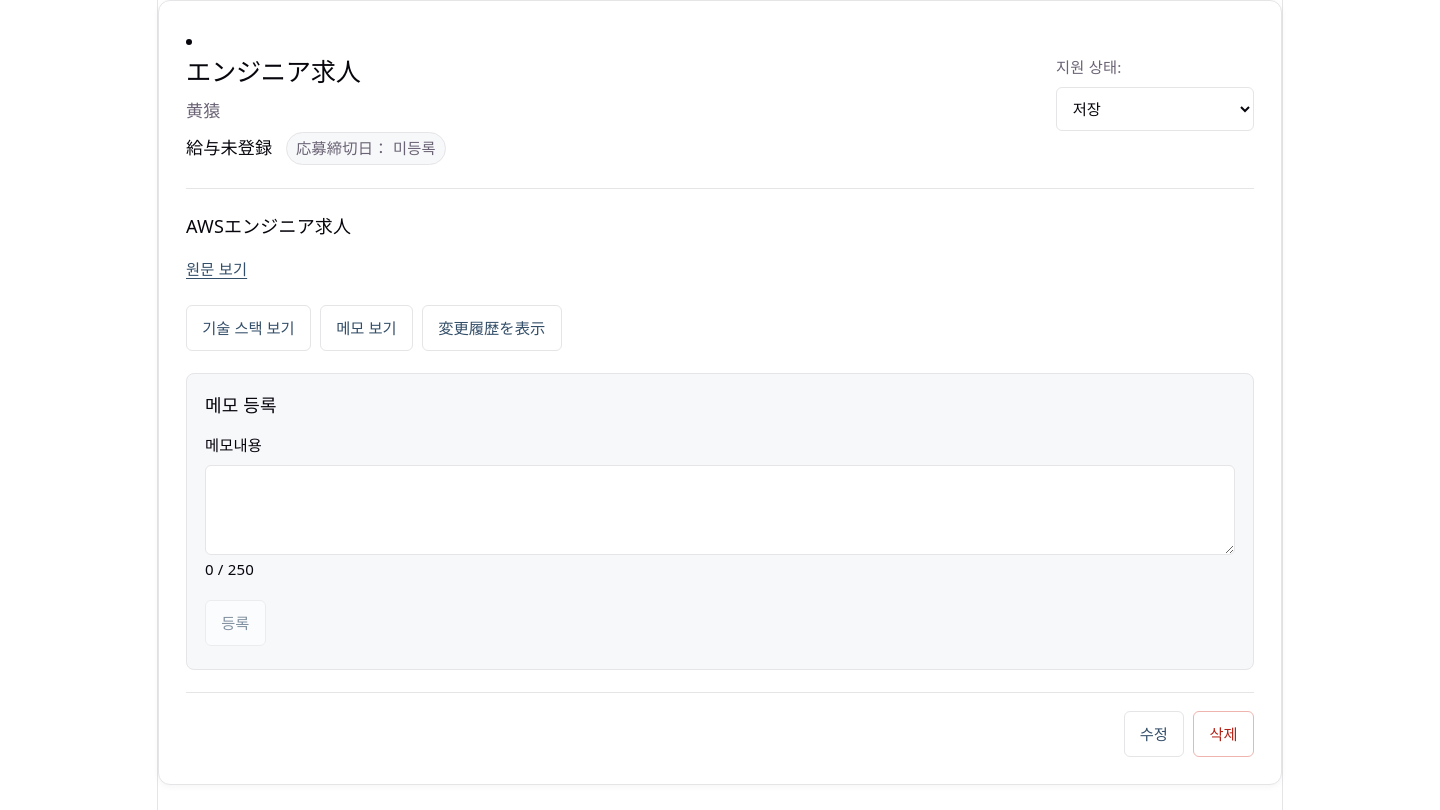
memos › 메모가 없을 때 메시지로 메모가 없음을 확인할 수 있다.
Click the button "메모 보기" at x=366, y=328, box [320,305,413,351]
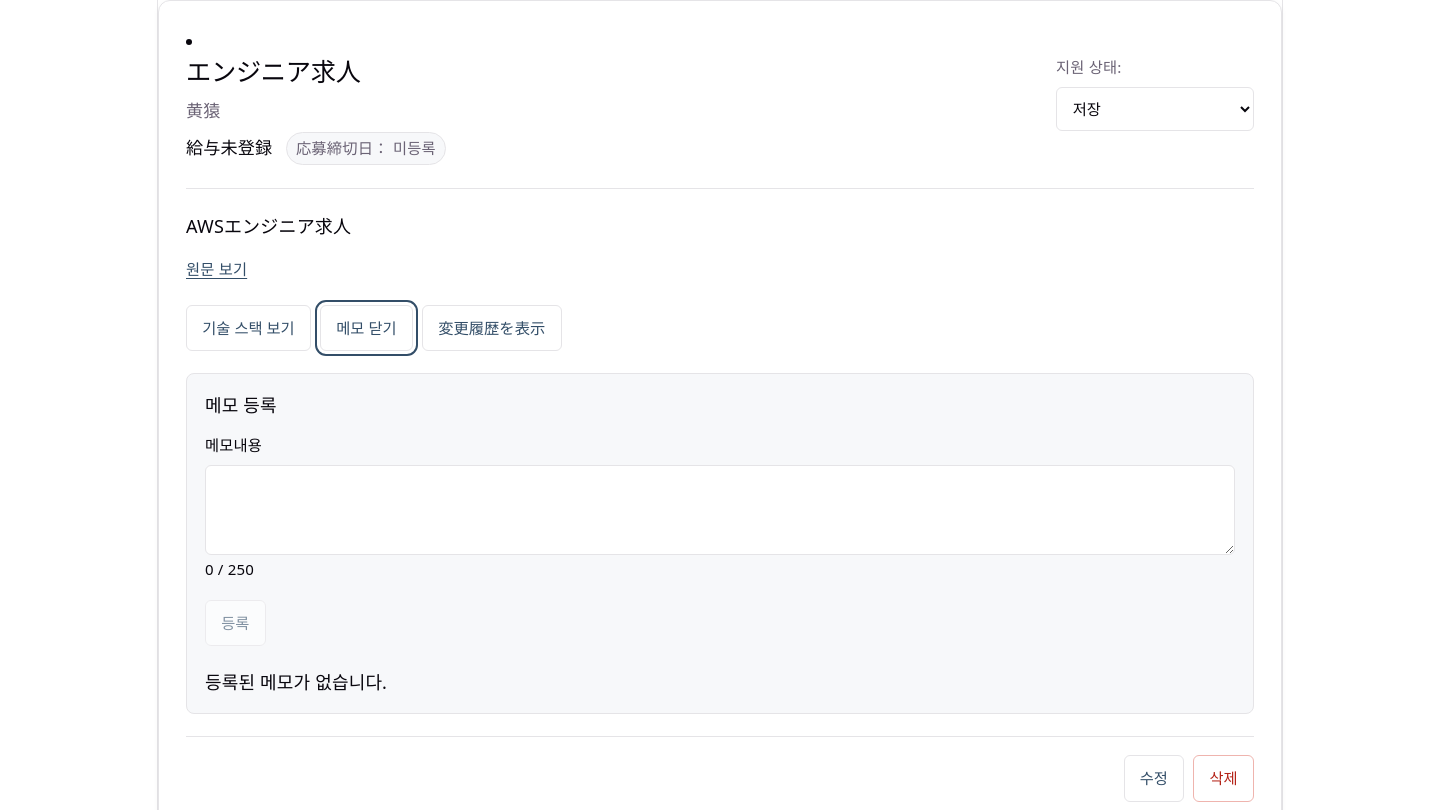
Expected: the text "등록된 메모가 없습니다." is shown, [205,670,387,694]
